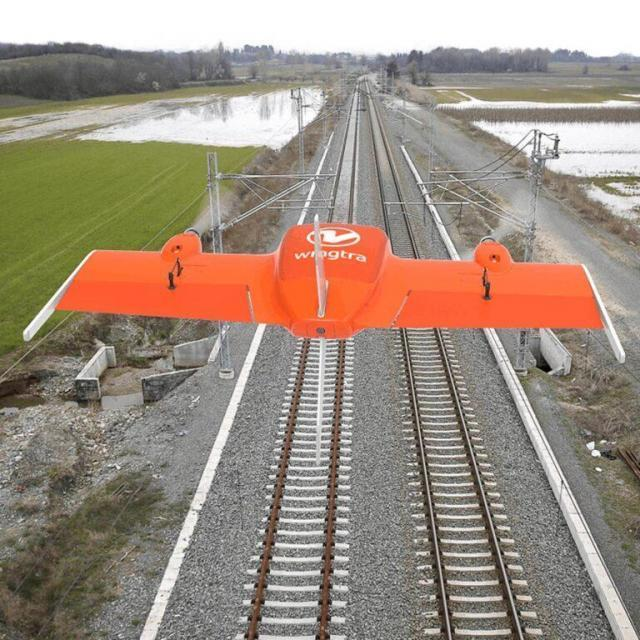UAV: (47, 212, 632, 390)
